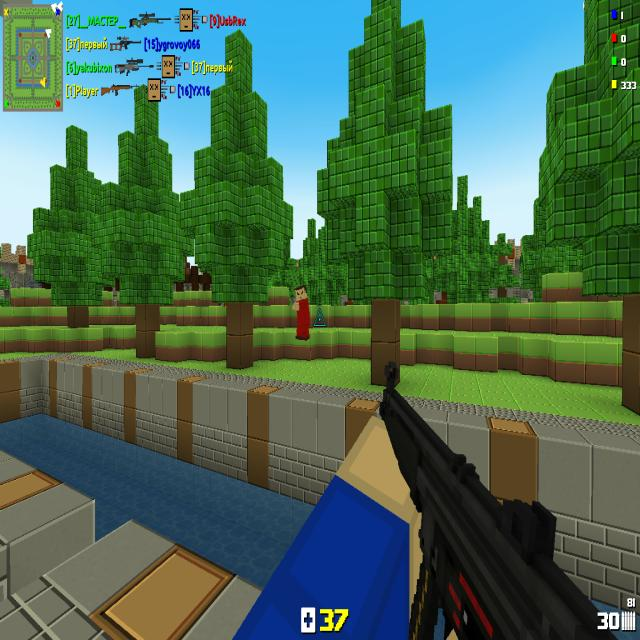enemy: (292, 286, 309, 340)
